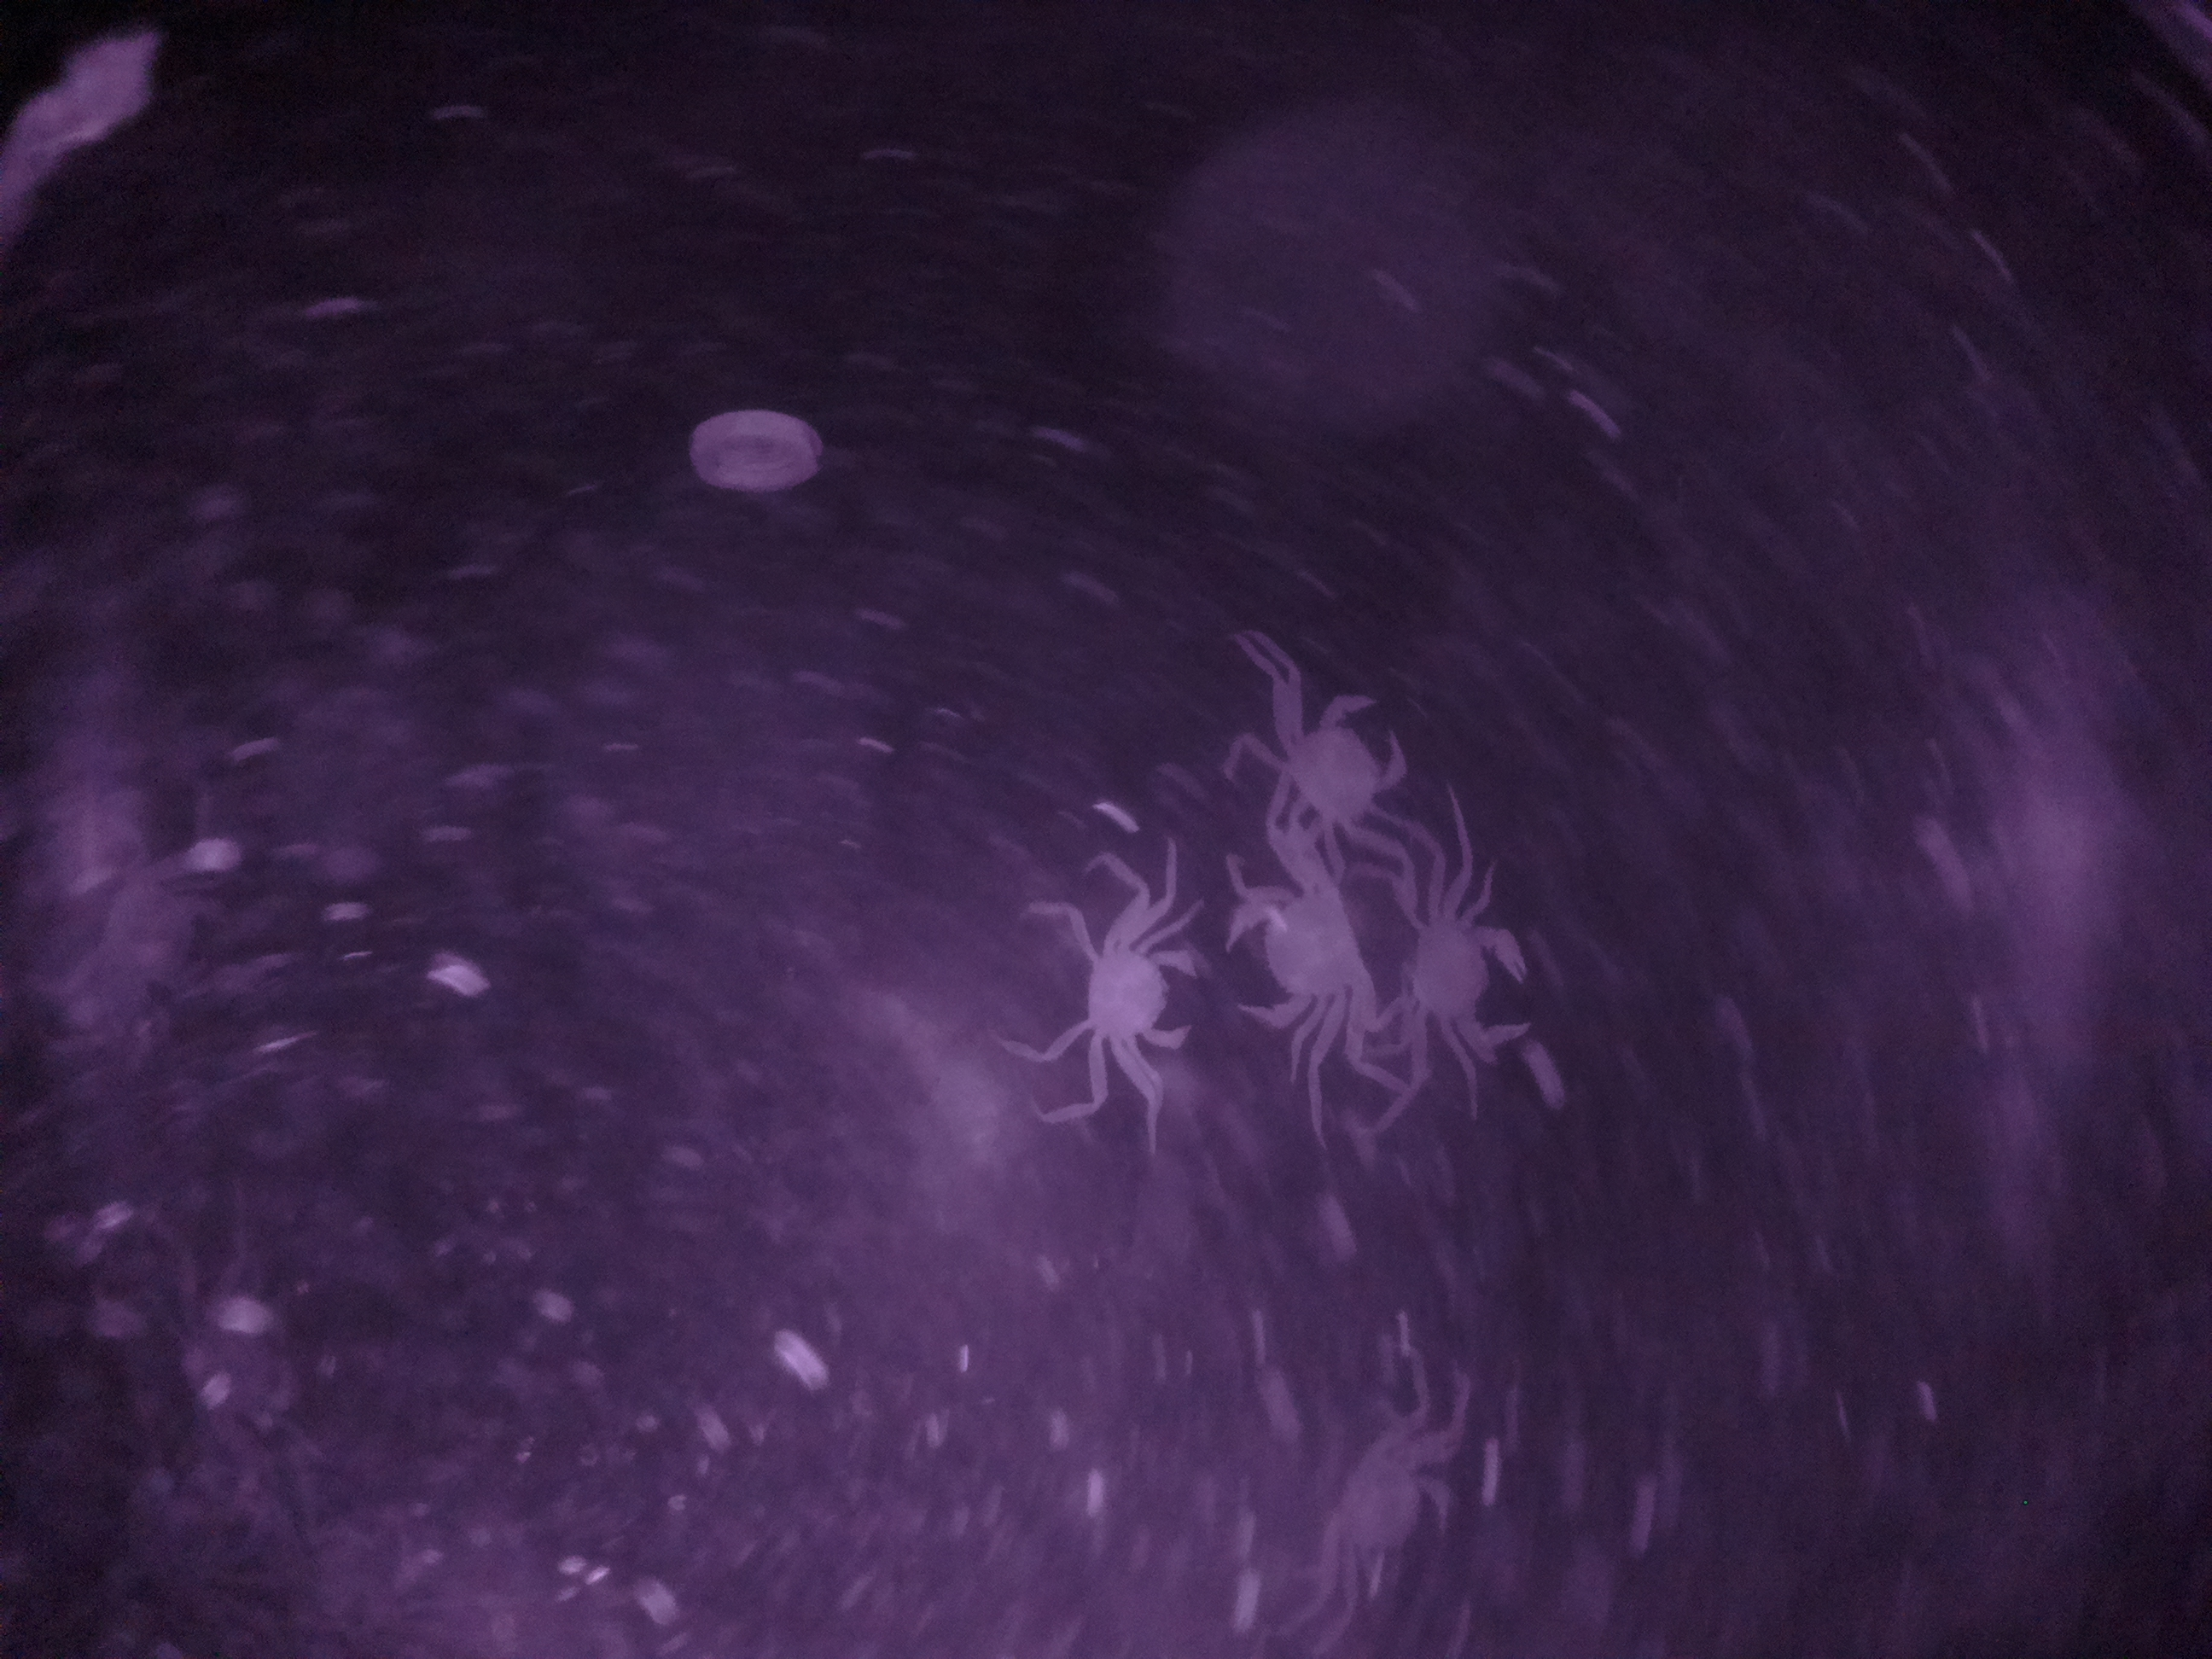Crab: (1219, 847, 1379, 1073), (1383, 882, 1569, 1073), (1238, 659, 1411, 857), (1061, 892, 1204, 1107)
